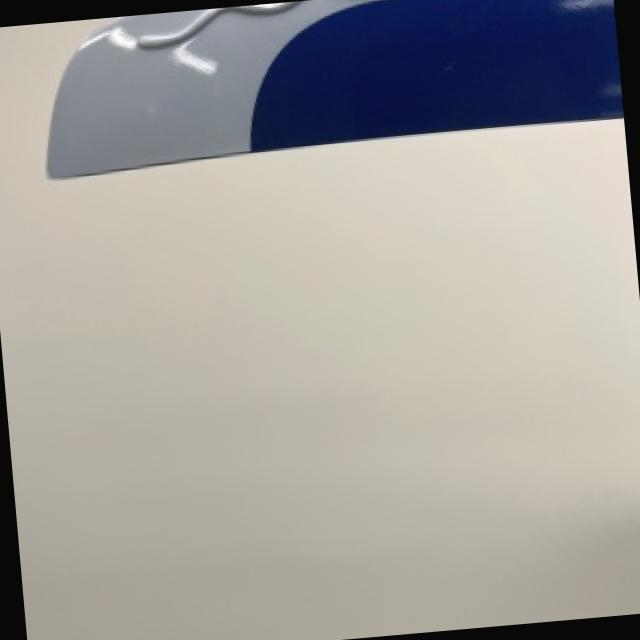healthy: (47, 0, 621, 174)
